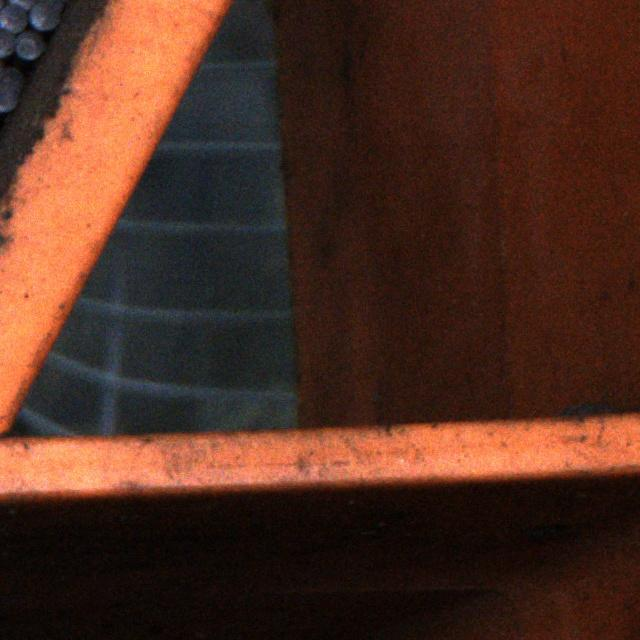tool: (0, 45, 40, 89), (28, 1, 59, 31), (0, 2, 29, 33), (16, 27, 44, 58), (0, 81, 20, 111), (0, 27, 15, 56), (38, 0, 66, 11)
